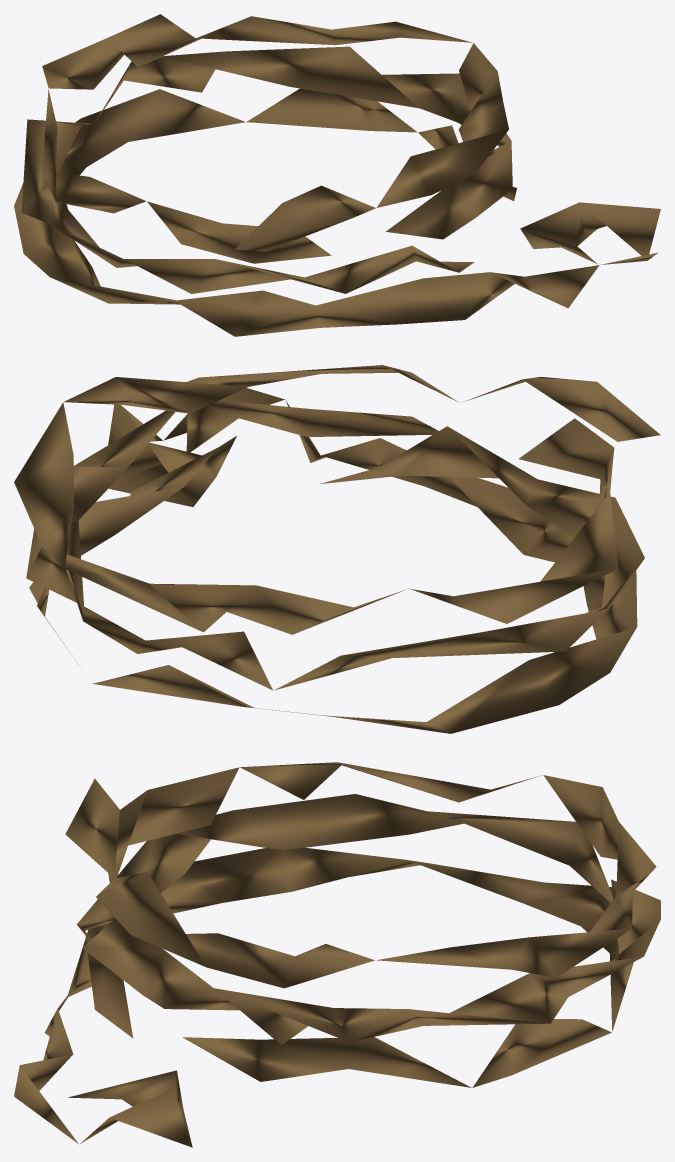
The model's file is cove-rope-coil.lod1.glb.
The picture shows the model from 3 angles, top to bottom: view 1: azimuth 30°, elevation 25°; view 2: azimuth 150°, elevation 25°; view 3: azimuth 270°, elevation 25°; orthographic projection. The views are drawn at different scales.
Parts seen in each view (by area): view 1: Object_4; view 2: Object_4; view 3: Object_4.
Part boxes in pixels (bbox=[...]): Object_4: bbox=[14, 14, 660, 336]; Object_4: bbox=[14, 365, 660, 733]; Object_4: bbox=[14, 762, 660, 1147].
Bounding box in the file's own units: 0.6746 × 0.1894 × 0.6422.
